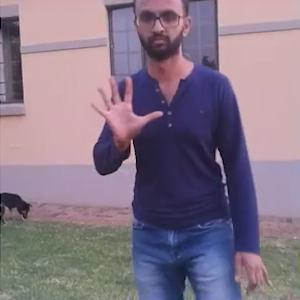follow_hand: (86, 70, 165, 146)
